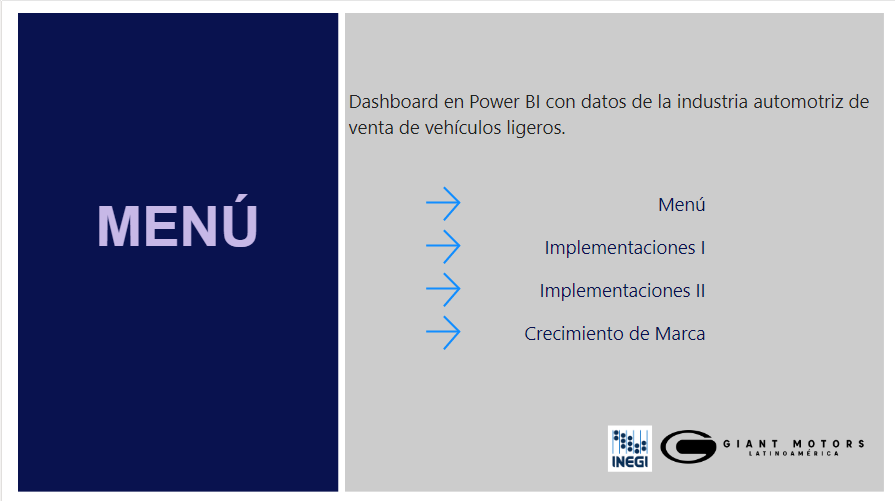

What the dashboard file says about the page in this screenshot:
{"tool":"powerbi","page":{"name":"Menú","canvas":[1280,720],"ordinal":0},"visuals":[{"type":"textbox","box":[22.8,17.6,456.5,683],"z":0},{"type":"image","box":[911.3,572.4,347.7,103.6],"z":1000},{"type":"textbox","box":[489.9,17.6,769.1,683],"z":2000},{"type":"actionButton","box":[598.1,319.6,410.1,61.5],"z":3000},{"type":"actionButton","box":[598.1,442.6,410.1,61.5],"z":4000},{"type":"image","box":[934.1,572.4,300.2,128.2],"z":5000},{"type":"actionButton","box":[598.1,381.1,410.1,61.5],"z":6000},{"type":"actionButton","box":[598.1,258.1,410.1,61.5],"z":7000},{"type":"image","box":[857.6,600.8,77.1,75.6],"z":8000}]}

Visuals, with their boxes in screenshot pixels (x1, y1, x2, y2), scaled from the page's 1280x720 canvas onto the 895x501 screenshot:
textbox: (left=16, top=12, right=335, bottom=488)
image: (left=637, top=398, right=880, bottom=470)
textbox: (left=343, top=12, right=880, bottom=488)
actionButton: (left=418, top=222, right=705, bottom=265)
actionButton: (left=418, top=308, right=705, bottom=351)
image: (left=653, top=398, right=863, bottom=488)
actionButton: (left=418, top=265, right=705, bottom=308)
actionButton: (left=418, top=180, right=705, bottom=222)
image: (left=600, top=418, right=654, bottom=471)
